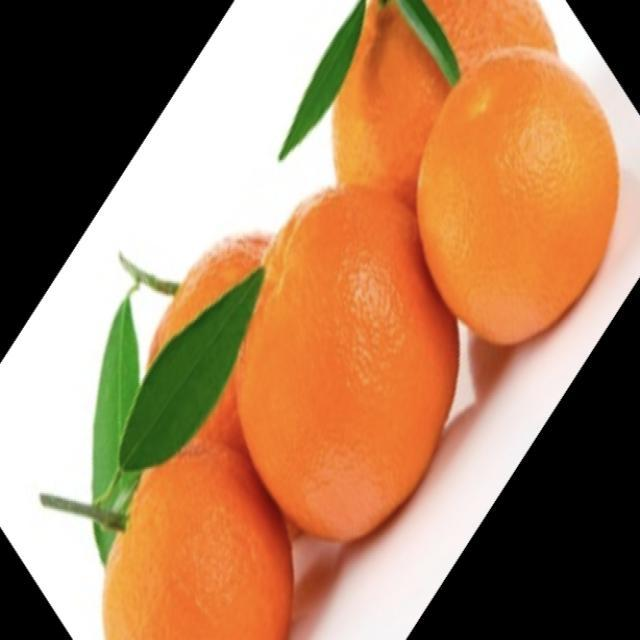Orange: (233, 182, 460, 543), (415, 44, 620, 347), (331, 0, 557, 207), (101, 439, 294, 639), (145, 231, 275, 445)
